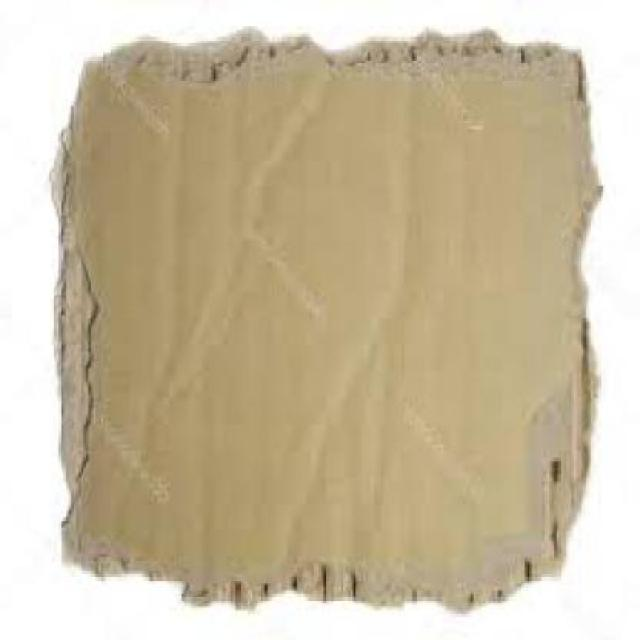CARDBOARD: (52, 27, 606, 607)
